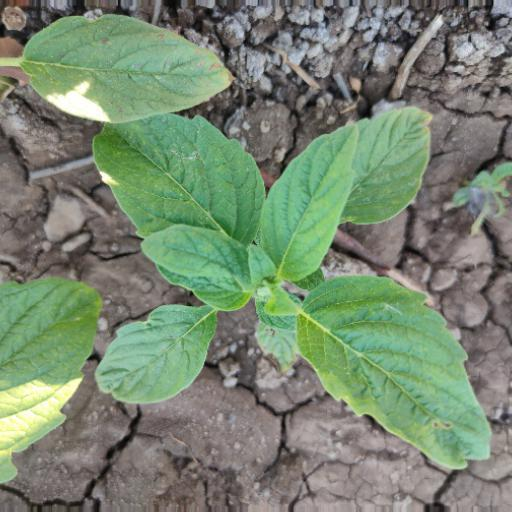crop: (88, 105, 493, 468)
